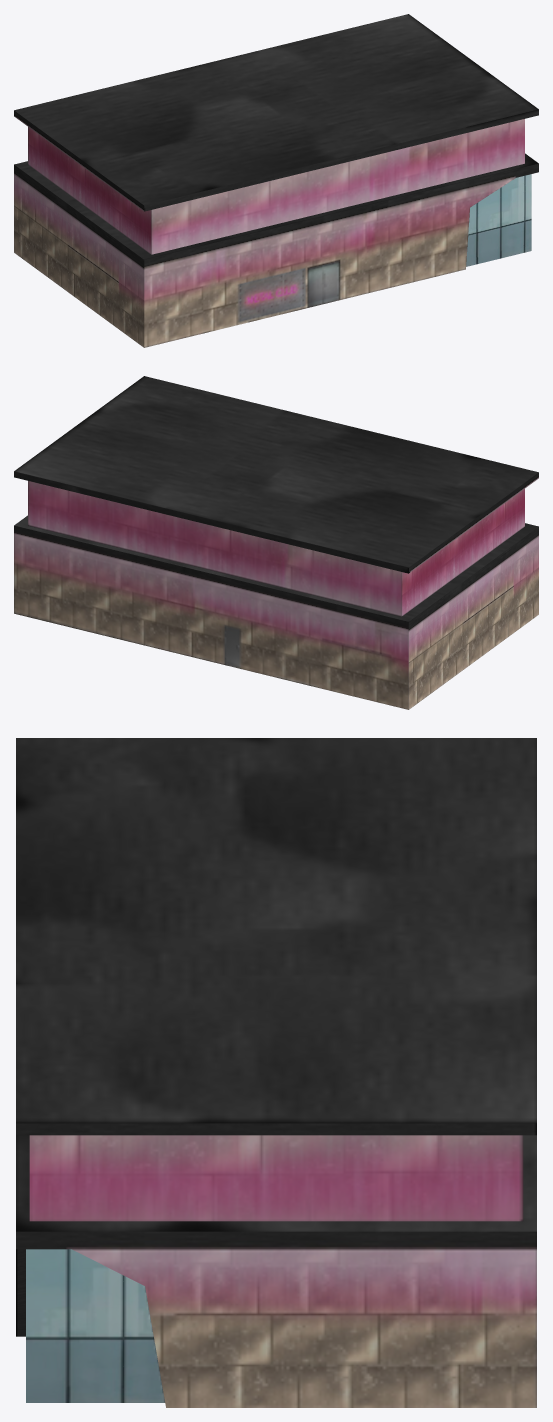
The model's file is normal_club.fbx.
3 views of the same model, one above another, from view 1: azimuth 30°, elevation 25°; view 2: azimuth 150°, elevation 25°; view 3: azimuth 270°, elevation 25° (orthographic). The views are drawn at different scales.
Visible parts, largest first — view 1: normal_club; view 2: normal_club; view 3: normal_club.
Boxes of the visible parts, box(x1,y1,x2,y2) form: normal_club: box(14, 14, 538, 347); normal_club: box(14, 376, 538, 709); normal_club: box(16, 738, 536, 1407).
Bounding box in the file's own units: 2690 × 927 × 1537.
Materials: 1 (1 with a texture image).
